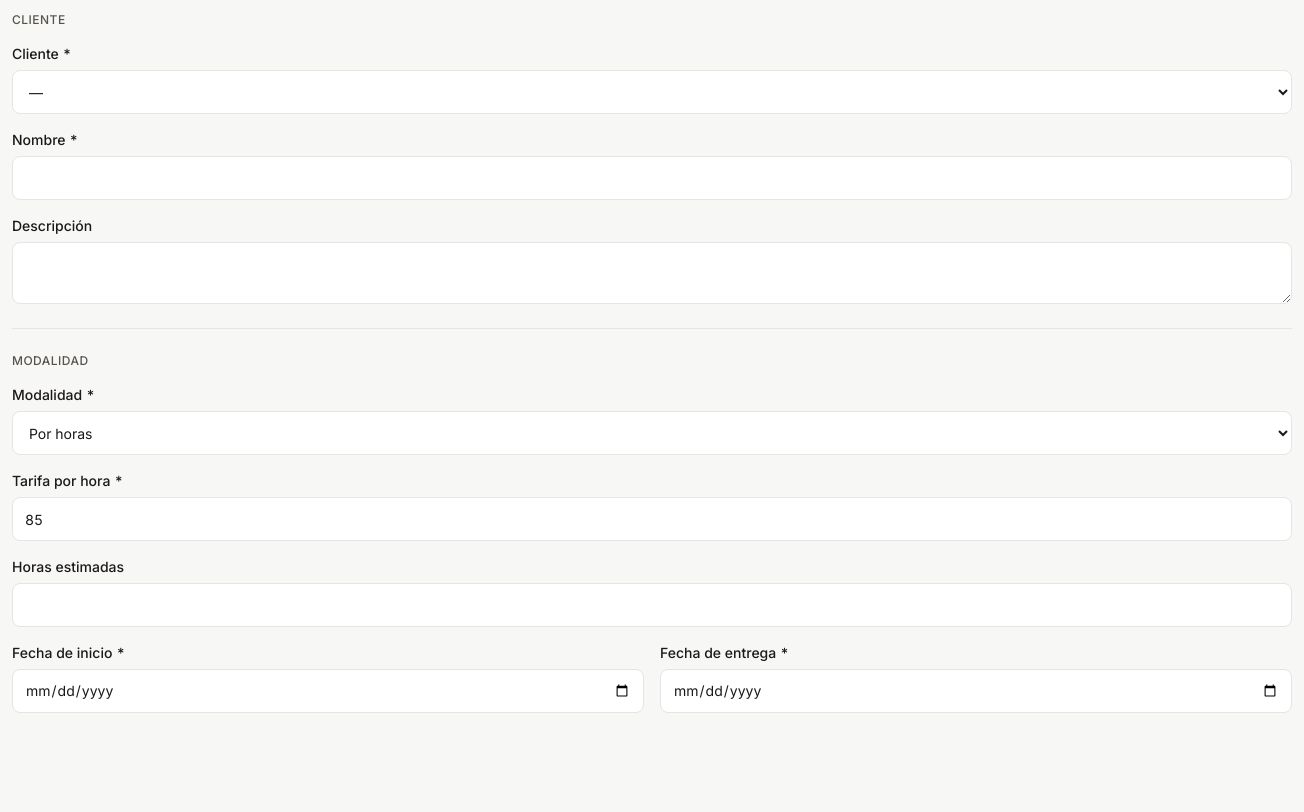
Scenario: HU-04.2 Validación específica del formulario de proyectos › shows endAfterStart when due date precedes start
Type "2026-05-10" into the date field labelled "Fecha de inicio *".
click(328, 691); type("2026-05-10")  # box [12,669,644,713]
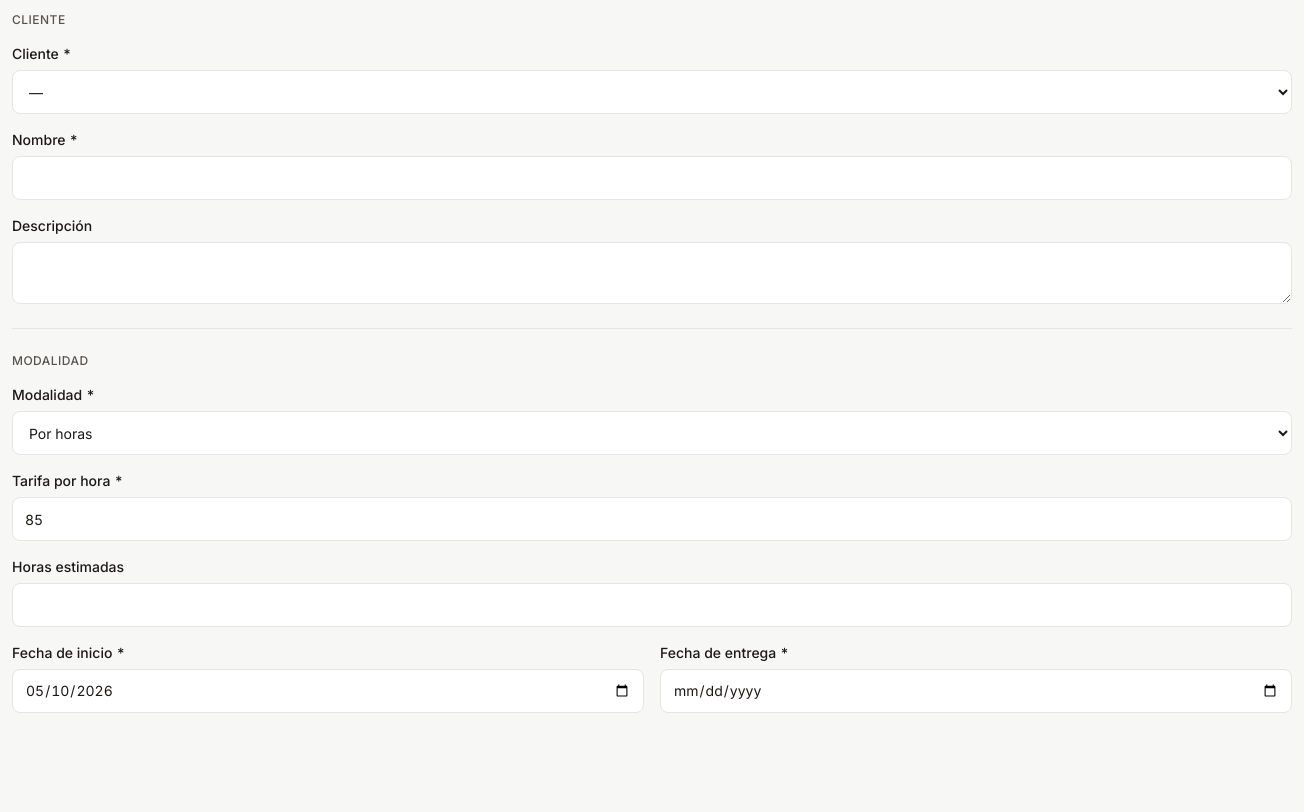
Type "2026-05-01" into the date field labelled "Fecha de entrega *".
click(976, 691); type("2026-05-01")  # box [660,669,1292,713]
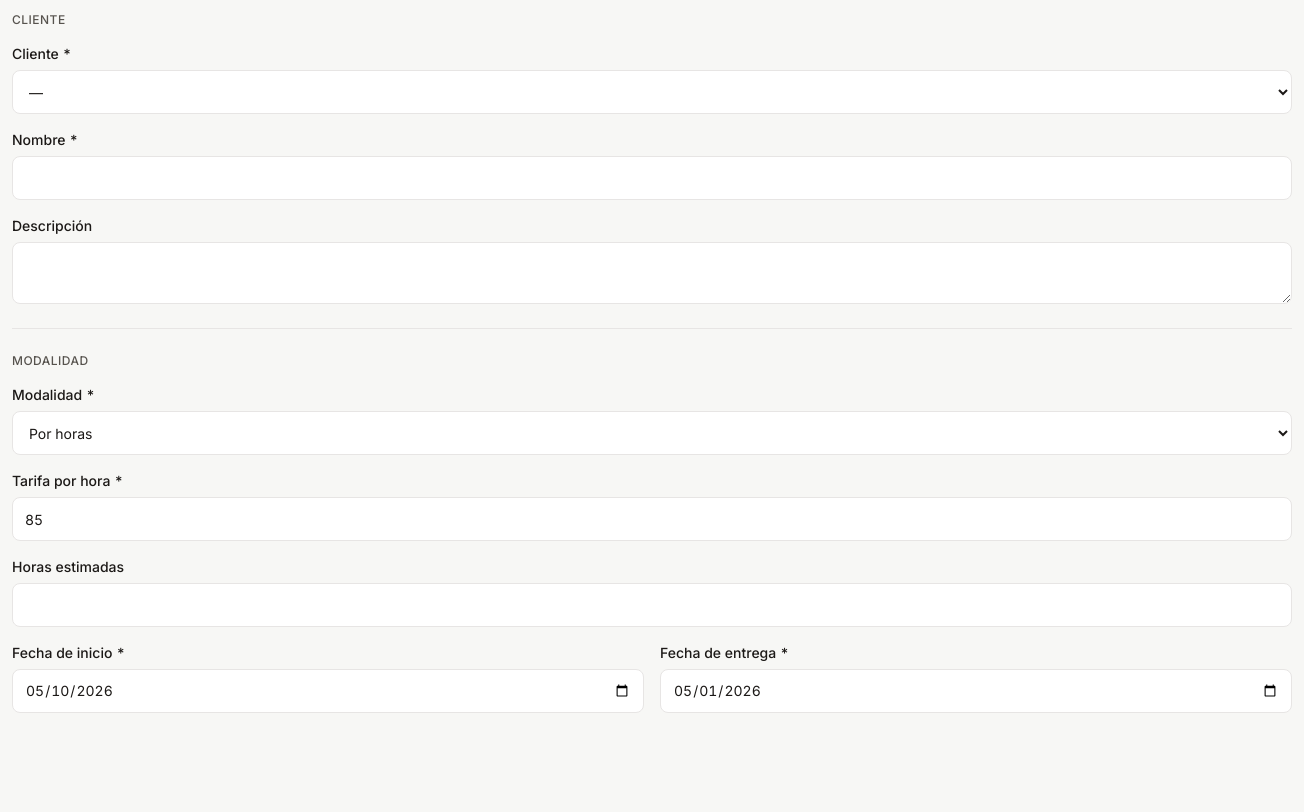
Submit the form
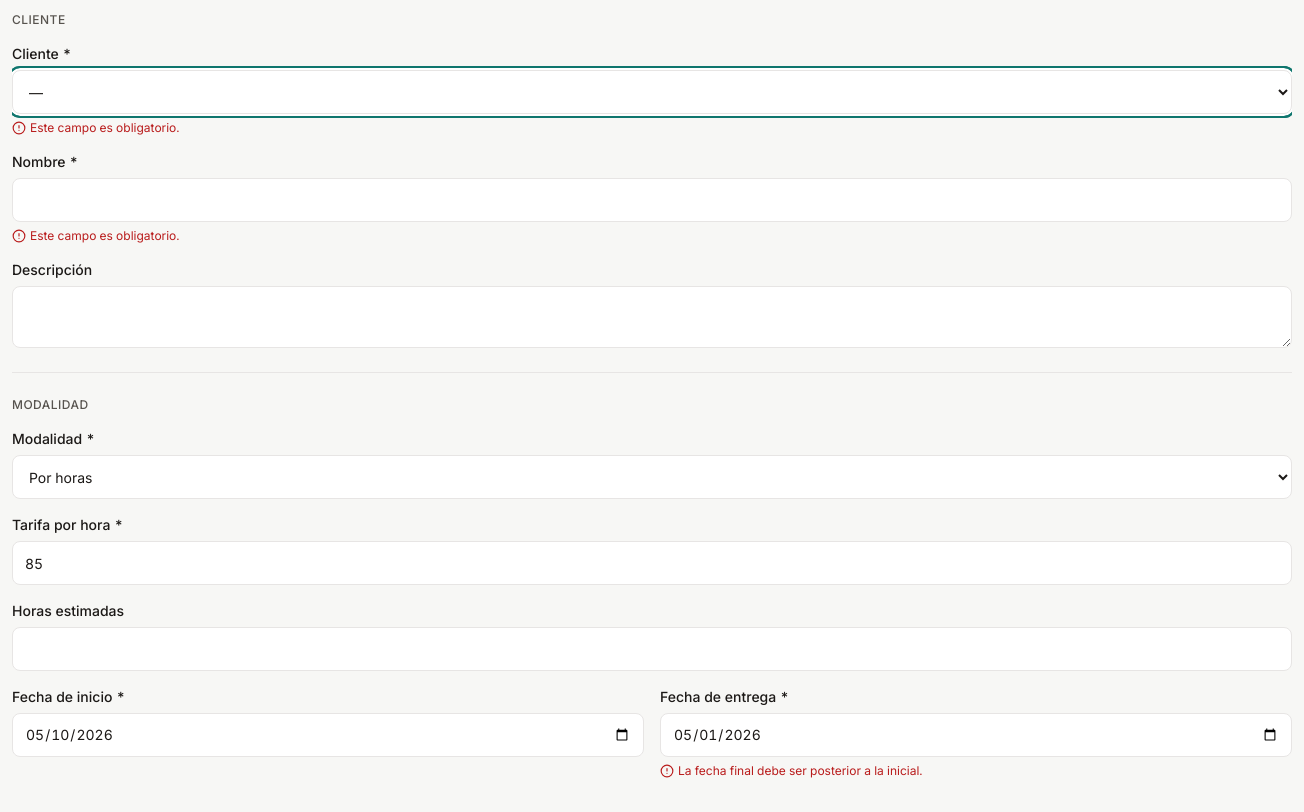
Check: the text "La fecha final debe ser posterior a la inicial." is shown, box [660,763,922,778]
